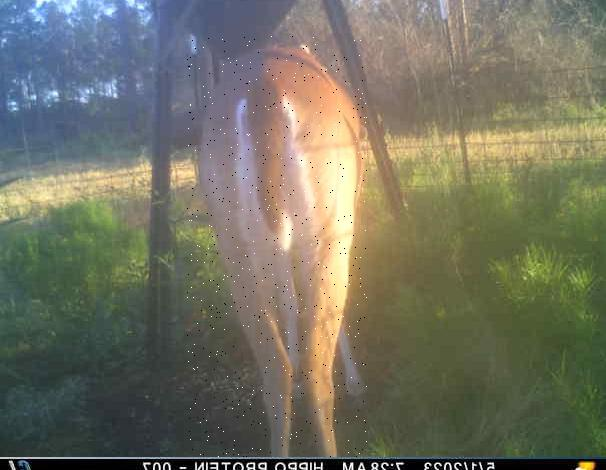Deer: (186, 36, 366, 457)
